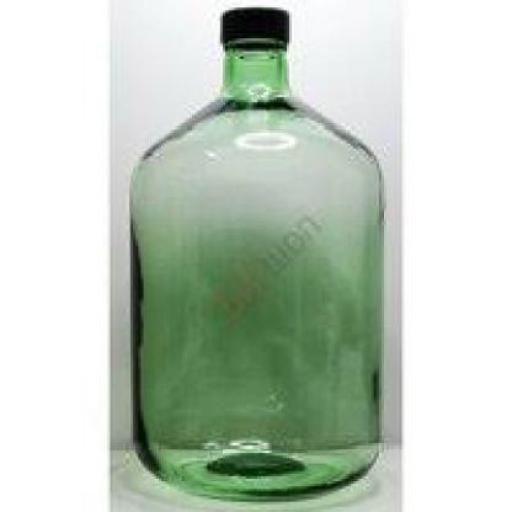glass: (128, 36, 382, 500)
plastic: (220, 5, 287, 41)
